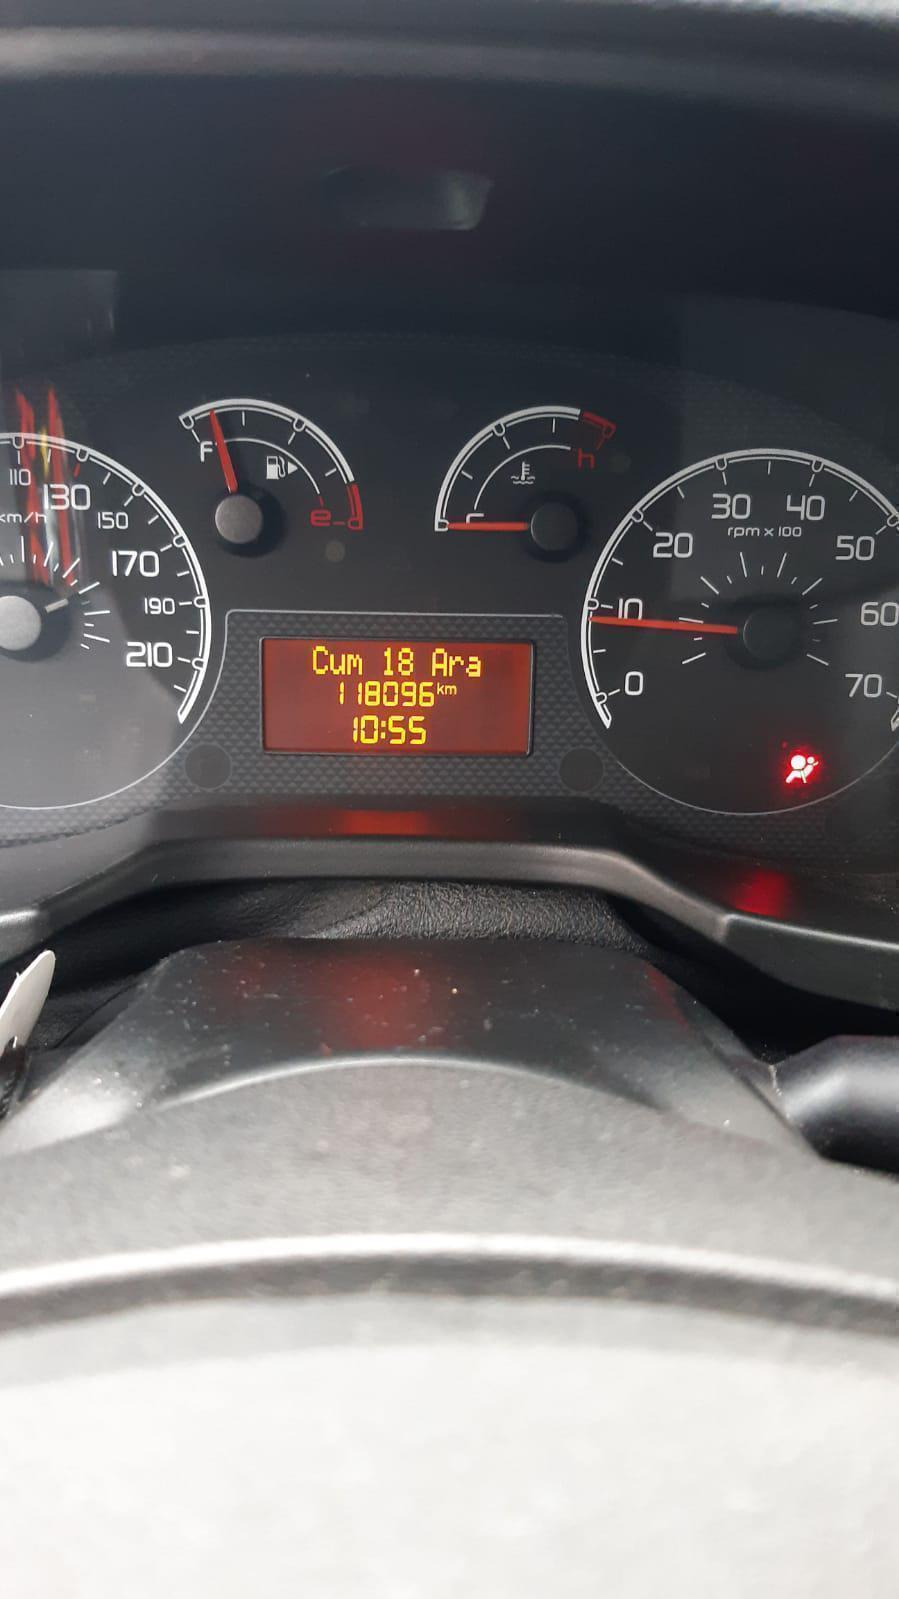0: (359, 714, 379, 745), (382, 680, 398, 708)
1: (379, 645, 395, 677), (333, 679, 348, 705), (348, 715, 360, 743), (352, 679, 362, 706)
5: (387, 713, 407, 746), (407, 714, 427, 745)
6: (417, 679, 435, 708)
8: (395, 645, 415, 677), (362, 679, 381, 707)
9: (398, 679, 417, 708)
X: (310, 644, 329, 675), (430, 646, 447, 677), (346, 651, 363, 677), (447, 655, 465, 678), (329, 651, 346, 675), (465, 655, 482, 679), (443, 683, 457, 696), (379, 719, 386, 741), (436, 680, 443, 696)
odometer: (229, 261, 369, 342)
